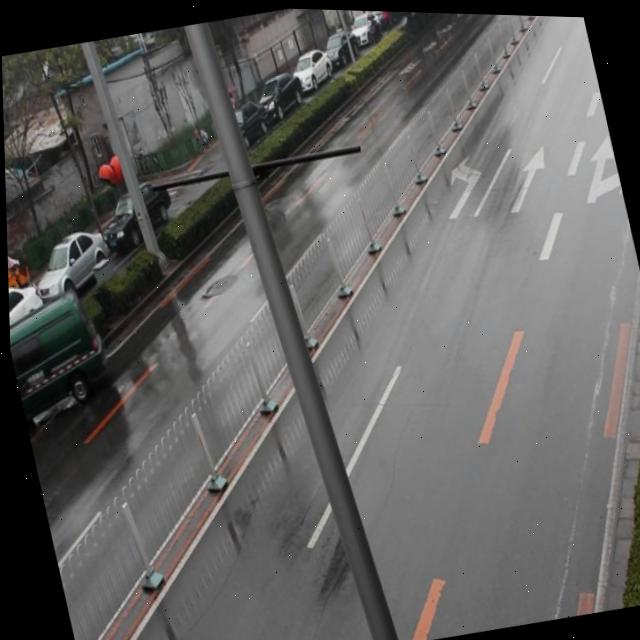truck: (7, 281, 123, 439)
